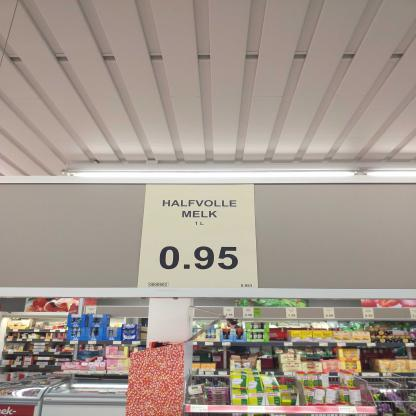prtg: (139, 185, 260, 290)
